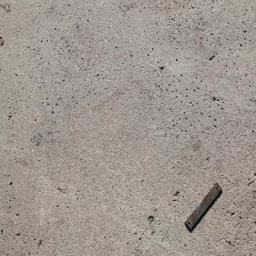FOD: (185, 179, 225, 235)
